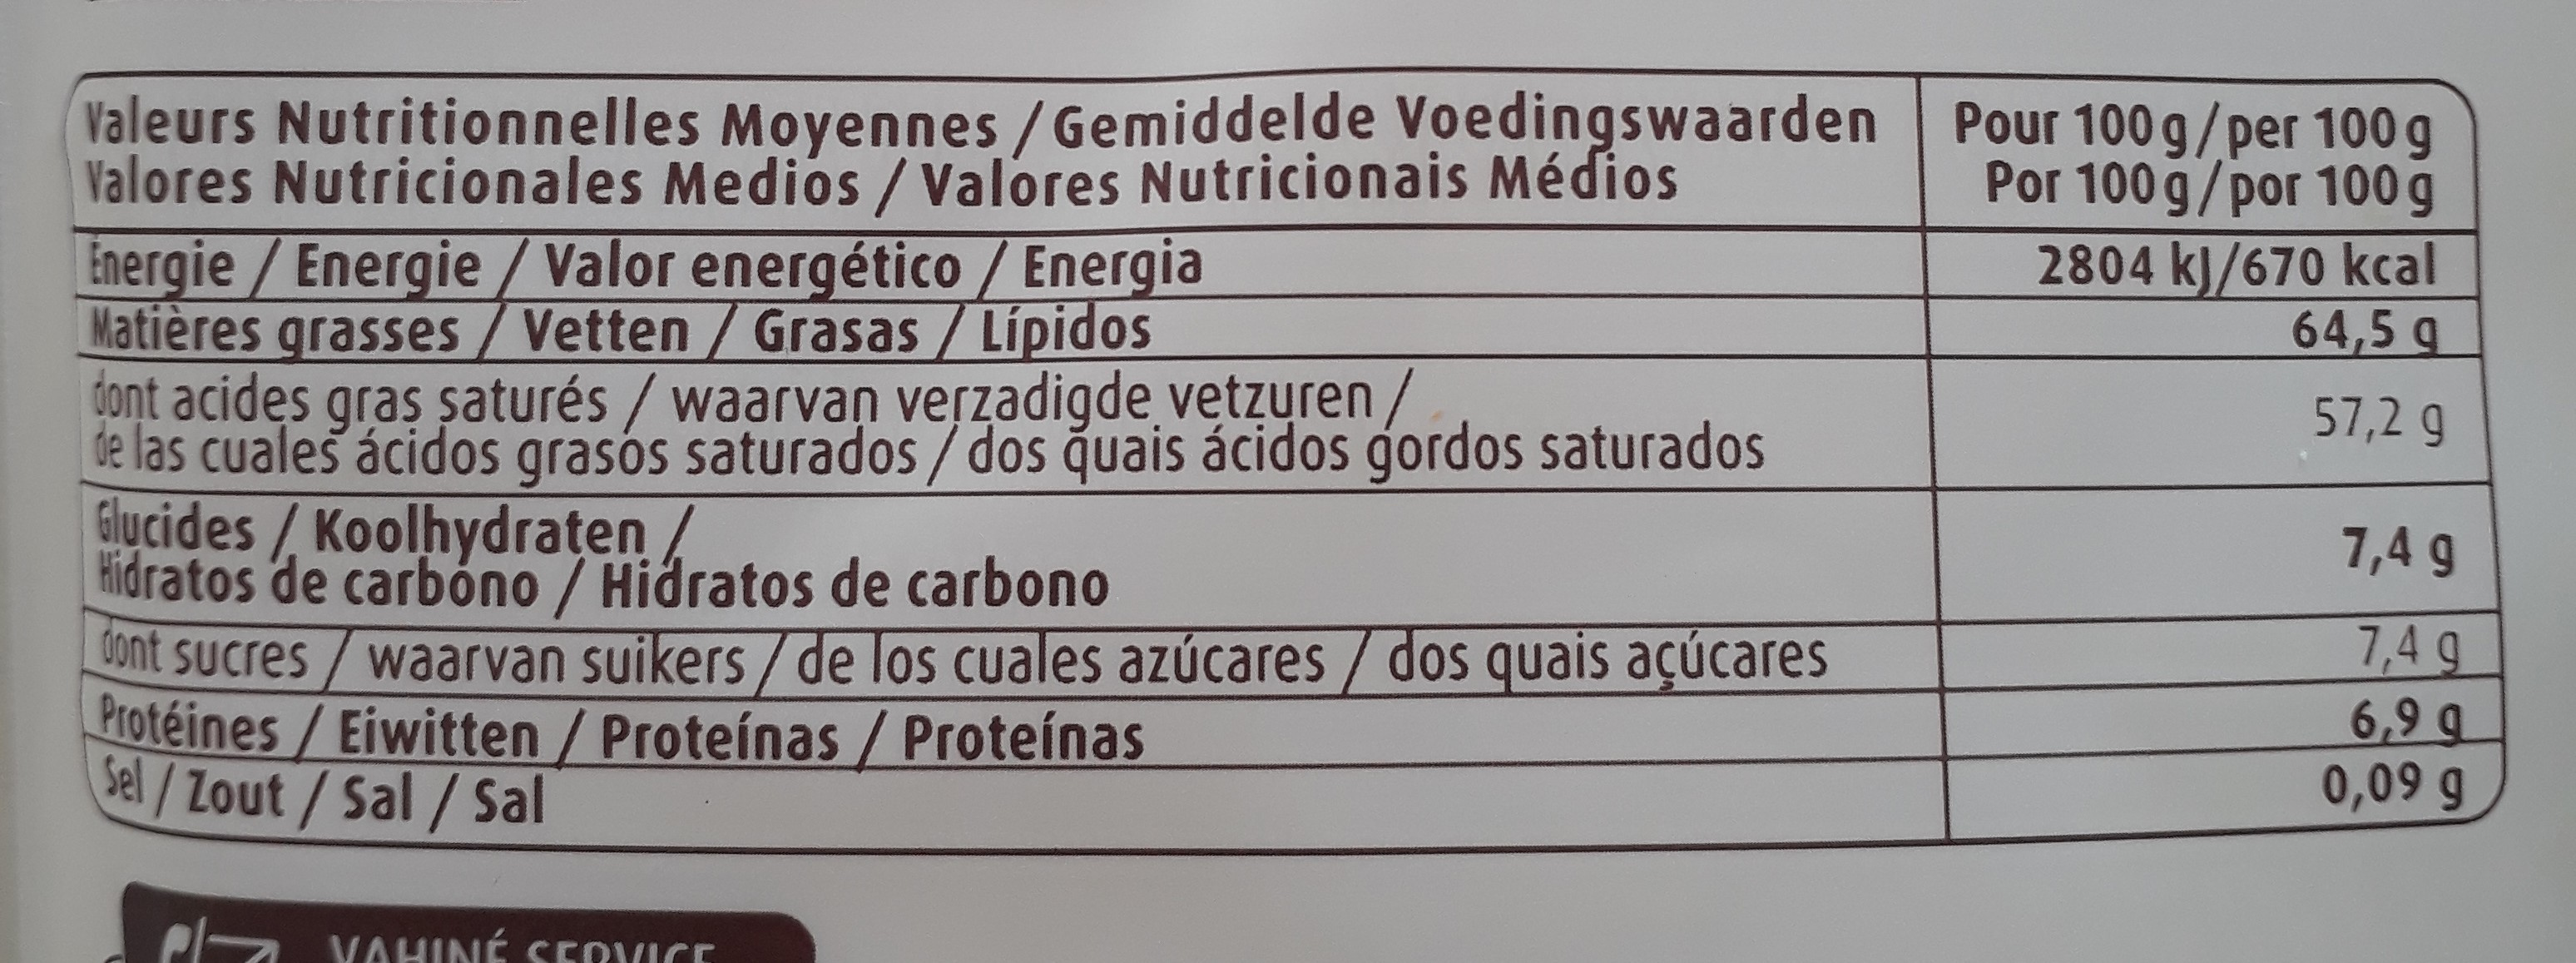column: (85, 82, 1879, 833), (1955, 95, 2468, 817)
table: (61, 69, 2509, 855)
